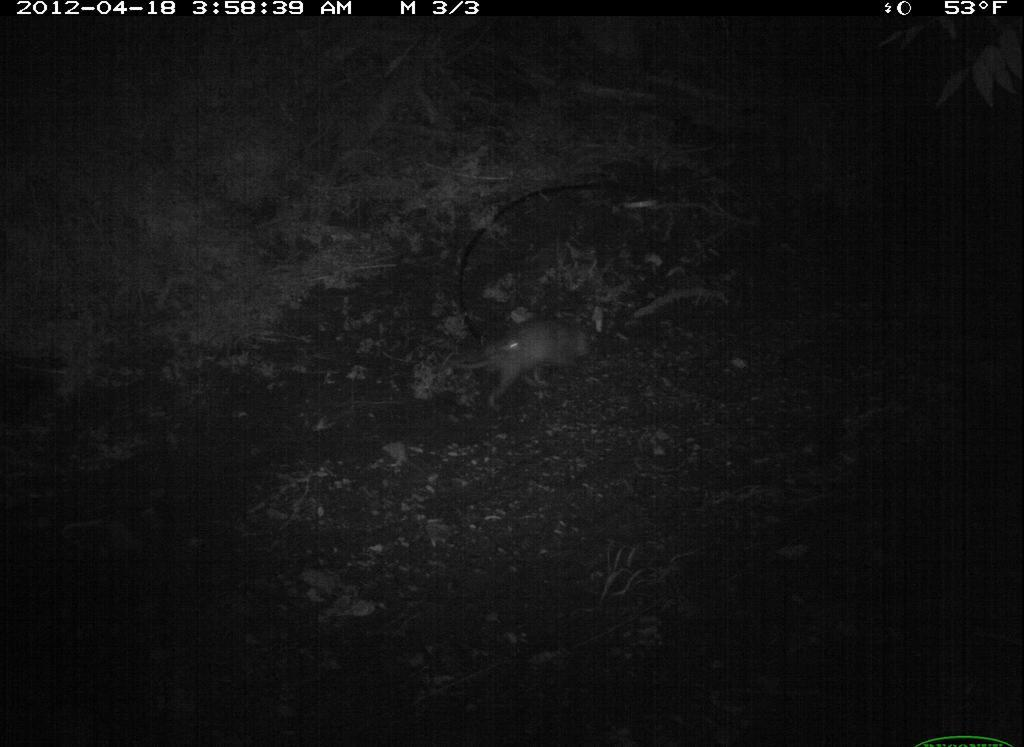opossum: (457, 301, 626, 422)
